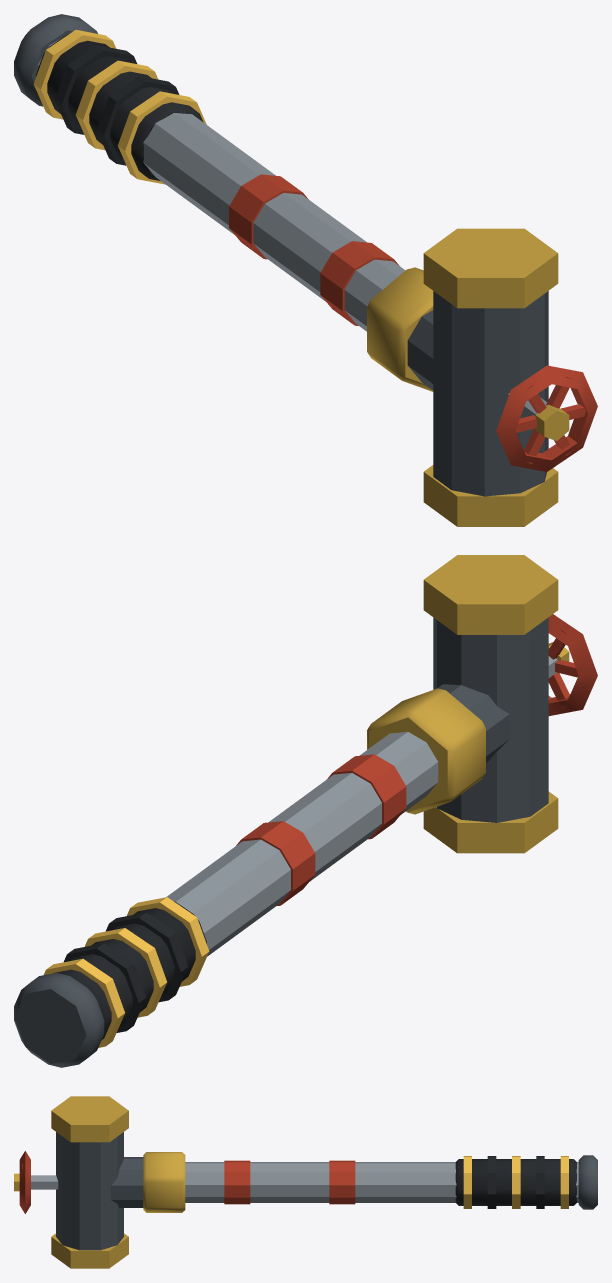
File: Weapon_LeadPipe.fbx
3 views of the same model, one above another, from view 1: azimuth 30°, elevation 25°; view 2: azimuth 150°, elevation 25°; view 3: azimuth 270°, elevation 25° (orthographic). The views are drawn at different scales.
Visible parts, largest first — view 1: Pipe; view 2: Pipe; view 3: Pipe.
Part boxes in pixels (box(x1,y1,x2,y2)): Pipe: box(14, 14, 597, 526); Pipe: box(14, 555, 597, 1067); Pipe: box(14, 1096, 597, 1268).
Size of the model in its own units: 0.42 by 0.98 by 3.61.
